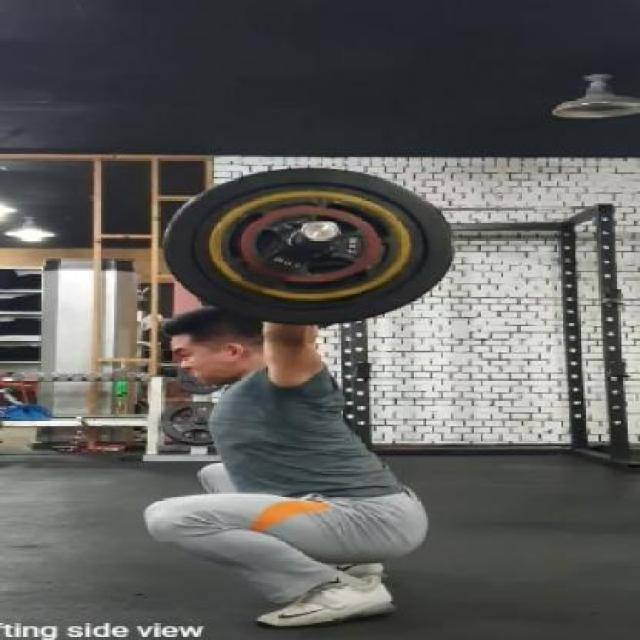barbell: (162, 164, 459, 332)
